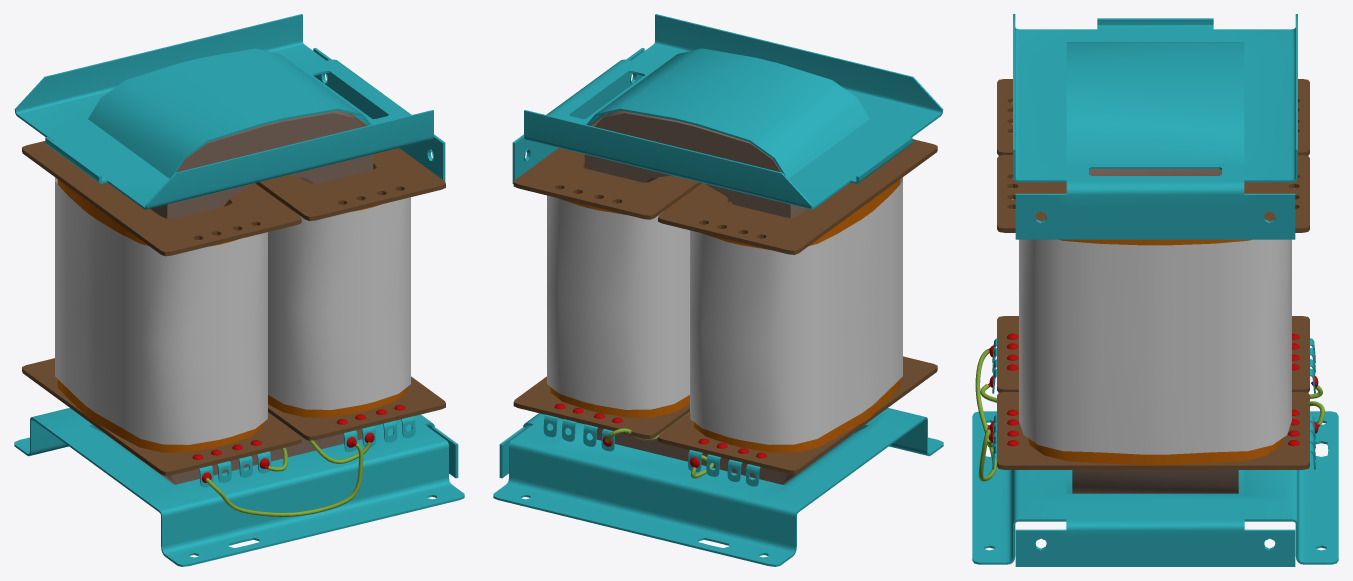
Rendered from transf003.fbx.
3 renders of one model, left to right at view 1: azimuth 30°, elevation 25°; view 2: azimuth 150°, elevation 25°; view 3: azimuth 270°, elevation 25°, orthographic. The views are drawn at different scales.
Parts seen in each view (by area): view 1: transf003_LOD0, transf003_pap; view 2: transf003_LOD0, transf003_pap; view 3: transf003_LOD0, transf003_pap.
Boxes of the visible parts, <box> form: transf003_LOD0: <box>14,14,464,566</box>; transf003_pap: <box>55,177,410,444</box>; transf003_LOD0: <box>493,14,943,566</box>; transf003_pap: <box>547,177,902,444</box>; transf003_LOD0: <box>972,14,1338,566</box>; transf003_pap: <box>1019,239,1291,454</box>.
Size of what is drawn, in the model's own units: 4.4 by 5 by 4.02.
